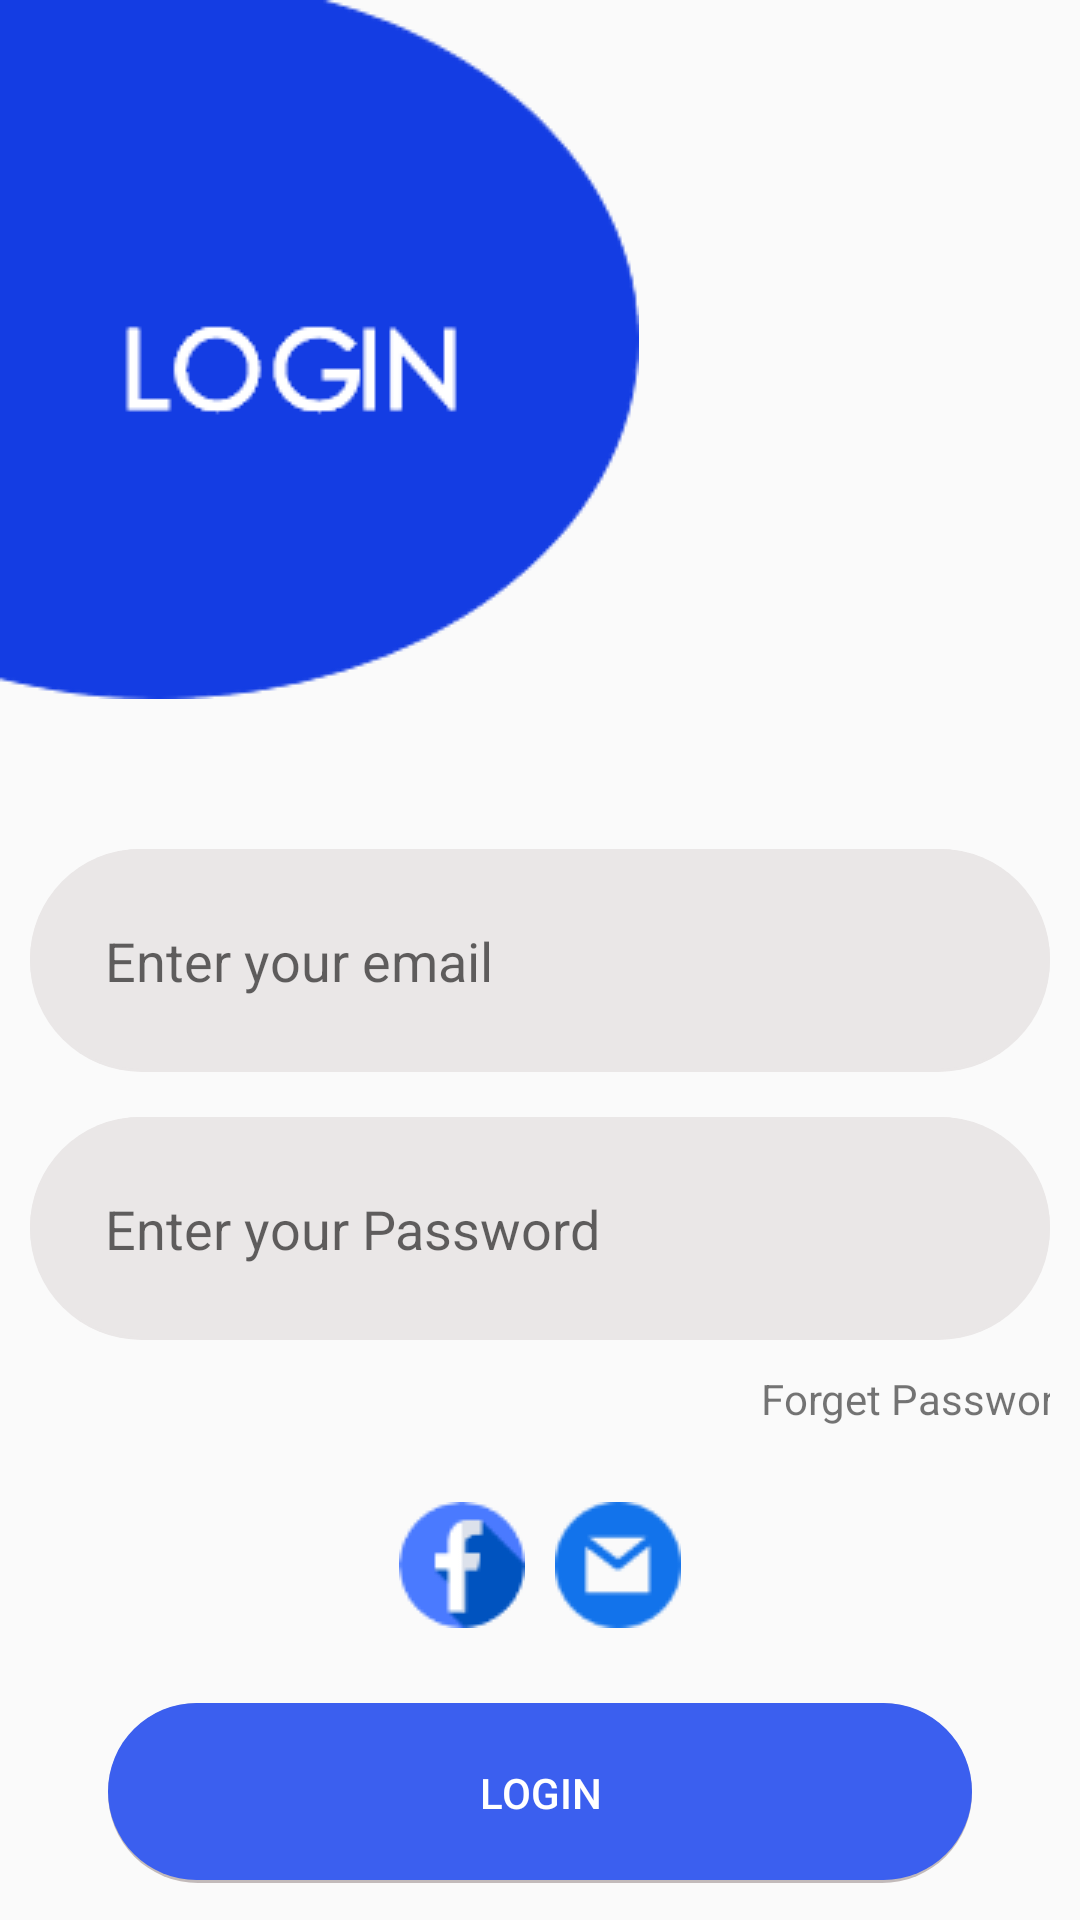

Point at icon controls on the screen. Image size 1080px x 1920px, points as (x,y).
email: (618,1565)
